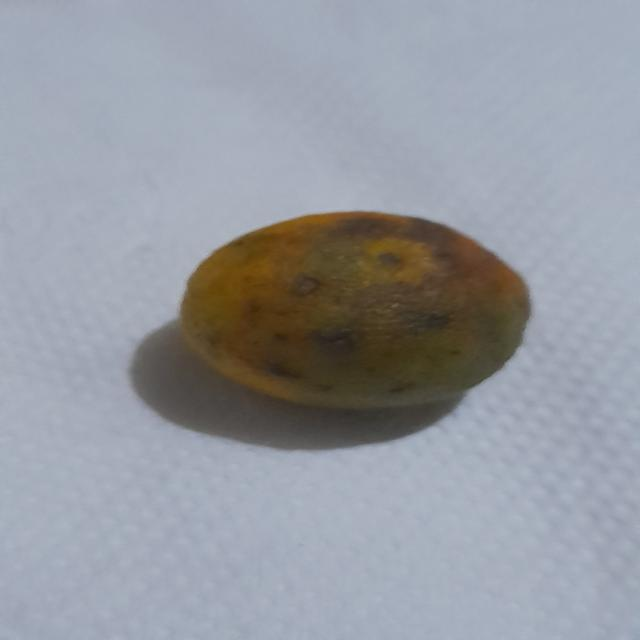black spot: (181, 208, 543, 416)
